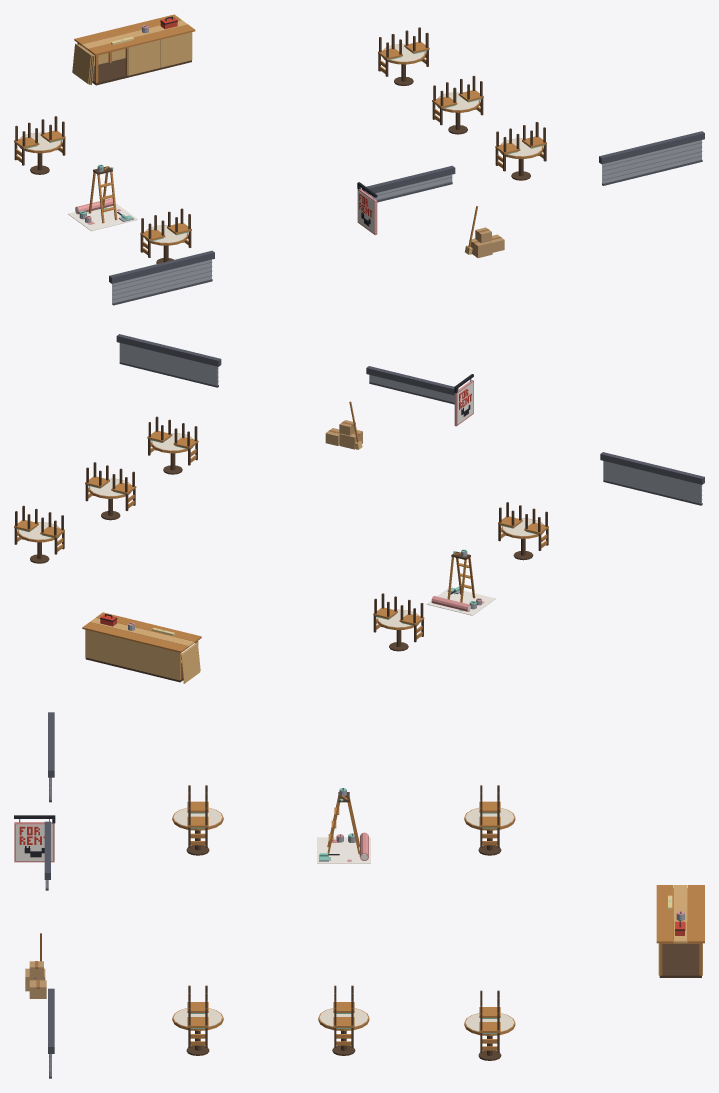
The model's file is CatCafe_Plot_ForRent_60x46.glb.
3 views of the same model, one above another, from view 1: azimuth 30°, elevation 25°; view 2: azimuth 150°, elevation 25°; view 3: azimuth 270°, elevation 25° (orthographic). The views are drawn at different scales.
Parts seen in each view (by area): view 1: CatCafe_Plot_ForRent_60x46, CatCafe_Plot_ForRent_60x46_Shutter; view 2: CatCafe_Plot_ForRent_60x46, CatCafe_Plot_ForRent_60x46_Shutter; view 3: CatCafe_Plot_ForRent_60x46, CatCafe_Plot_ForRent_60x46_Sign.
Boxes of the visible parts, <box> form: CatCafe_Plot_ForRent_60x46: <box>14,14,704,283</box>; CatCafe_Plot_ForRent_60x46_Shutter: <box>112,140,702,305</box>; CatCafe_Plot_ForRent_60x46: <box>14,334,704,683</box>; CatCafe_Plot_ForRent_60x46_Shutter: <box>119,343,702,505</box>; CatCafe_Plot_ForRent_60x46: <box>14,712,704,1060</box>; CatCafe_Plot_ForRent_60x46_Sign: <box>16,824,52,860</box>.
Bounding box in the file's own units: 55.7 × 8.45 × 48.6.
1 material, 1 textured.
